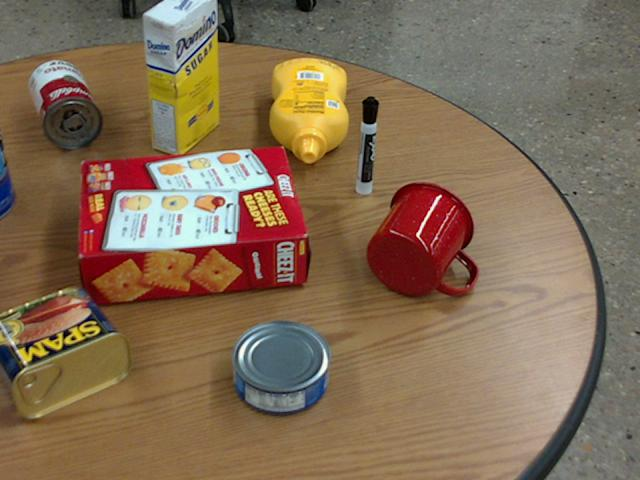cracker_box: (81, 147, 308, 304)
large_marker: (357, 96, 378, 193)
master_chef_can: (0, 130, 15, 217)
mug: (368, 181, 478, 295)
mustard_bottle: (270, 59, 348, 162)
potted_meat_can: (0, 285, 129, 417)
sugar_box: (143, 0, 219, 156)
tomato_soup_can: (30, 60, 102, 148)
tuna_fish_can: (230, 320, 329, 414)
